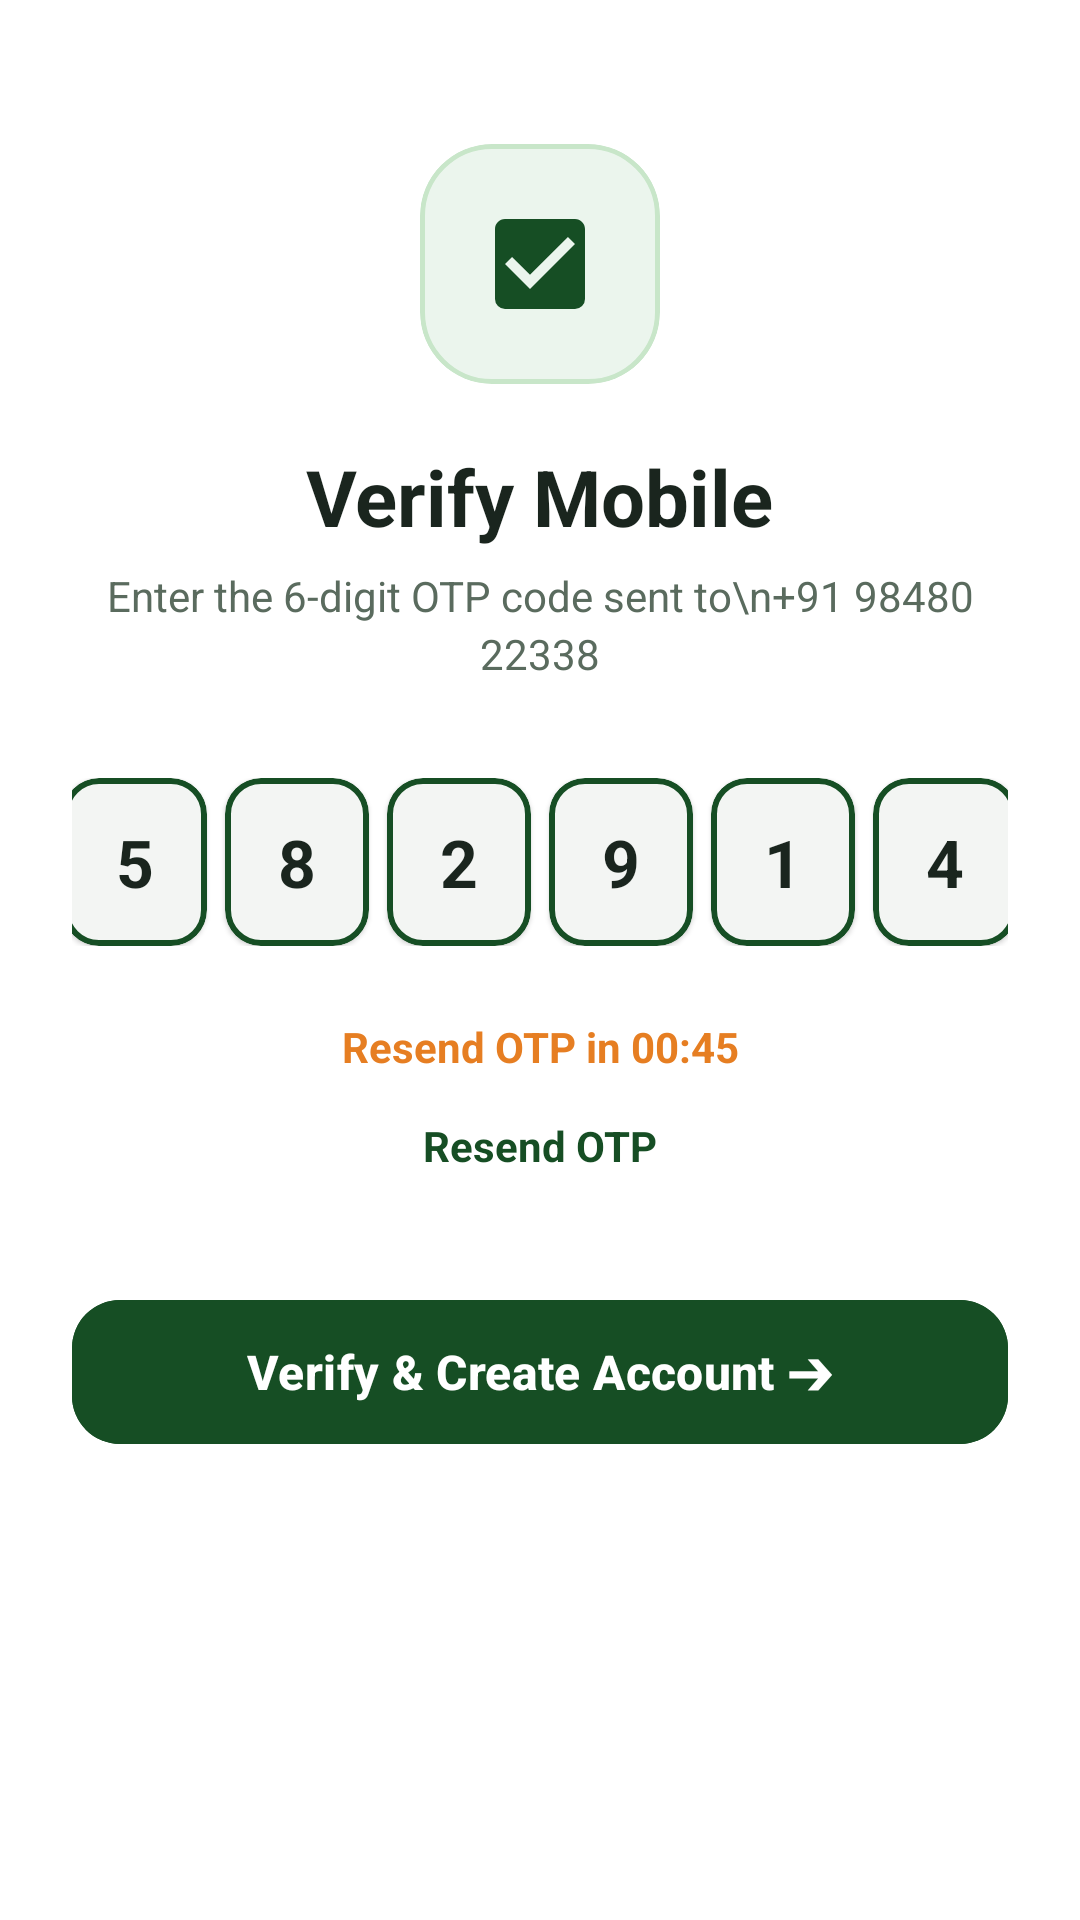

Icons on this 1080x1920 Android screen, each with the point to tap as (x=x, y=y):
Verify Account: (x=540, y=264)
